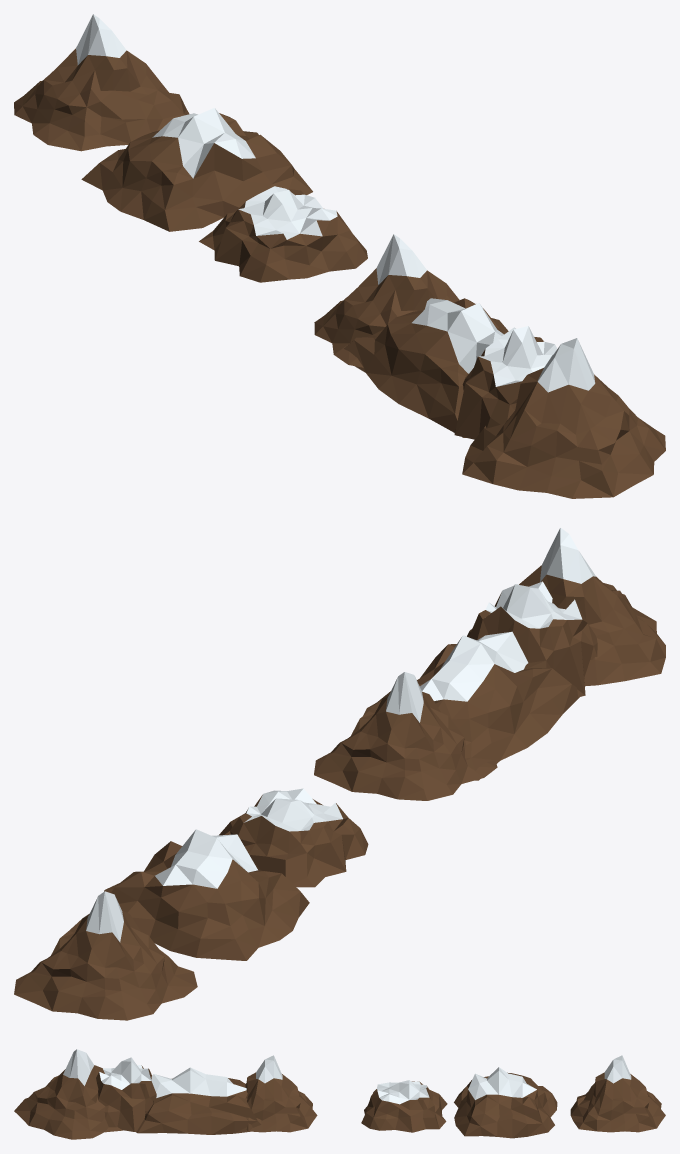
The model's file is mountain.fbx.
3 views of the same model, one above another, from view 1: azimuth 30°, elevation 25°; view 2: azimuth 150°, elevation 25°; view 3: azimuth 270°, elevation 25° (orthographic). The views are drawn at different scales.
Visible parts, largest first — view 1: SM_mountain_1_W2, SM_mountain_2_W, SM_mountain_1_W, SM_mountain_2_W1, SM_mountain_3_W, SM_mountain_1_W1, SM_mountain_3_W1; view 2: SM_mountain_2_W, SM_mountain_2_W1, SM_mountain_1_W, SM_mountain_1_W1, SM_mountain_1_W2, SM_mountain_3_W, SM_mountain_3_W1; view 3: SM_mountain_2_W1, SM_mountain_2_W, SM_mountain_1_W2, SM_mountain_1_W, SM_mountain_1_W1, SM_mountain_3_W, SM_mountain_3_W1.
Part boxes in pixels (left/top/right/bottom): SM_mountain_1_W2: left=462, top=338, right=665, bottom=498; SM_mountain_2_W: left=81, top=108, right=312, bottom=231; SM_mountain_1_W: left=14, top=14, right=189, bottom=151; SM_mountain_2_W1: left=344, top=298, right=508, bottom=437; SM_mountain_3_W: left=199, top=186, right=367, bottom=282; SM_mountain_1_W1: left=314, top=234, right=459, bottom=367; SM_mountain_3_W1: left=454, top=326, right=557, bottom=439; SM_mountain_2_W: left=104, top=829, right=309, bottom=960; SM_mountain_2_W1: left=363, top=631, right=579, bottom=780; SM_mountain_1_W: left=14, top=891, right=197, bottom=1020; SM_mountain_1_W1: left=314, top=672, right=497, bottom=800; SM_mountain_1_W2: left=519, top=527, right=665, bottom=686; SM_mountain_3_W: left=219, top=788, right=368, bottom=887; SM_mountain_3_W1: left=467, top=581, right=597, bottom=697; SM_mountain_2_W1: left=136, top=1067, right=261, bottom=1134; SM_mountain_2_W: left=454, top=1067, right=557, bottom=1138; SM_mountain_1_W2: left=14, top=1049, right=122, bottom=1139; SM_mountain_1_W: left=570, top=1055, right=665, bottom=1132; SM_mountain_1_W1: left=245, top=1055, right=317, bottom=1132; SM_mountain_3_W: left=361, top=1080, right=447, bottom=1132; SM_mountain_3_W1: left=96, top=1057, right=156, bottom=1131.
Bounding box in the file's own units: 2762 × 1594 × 13997.
